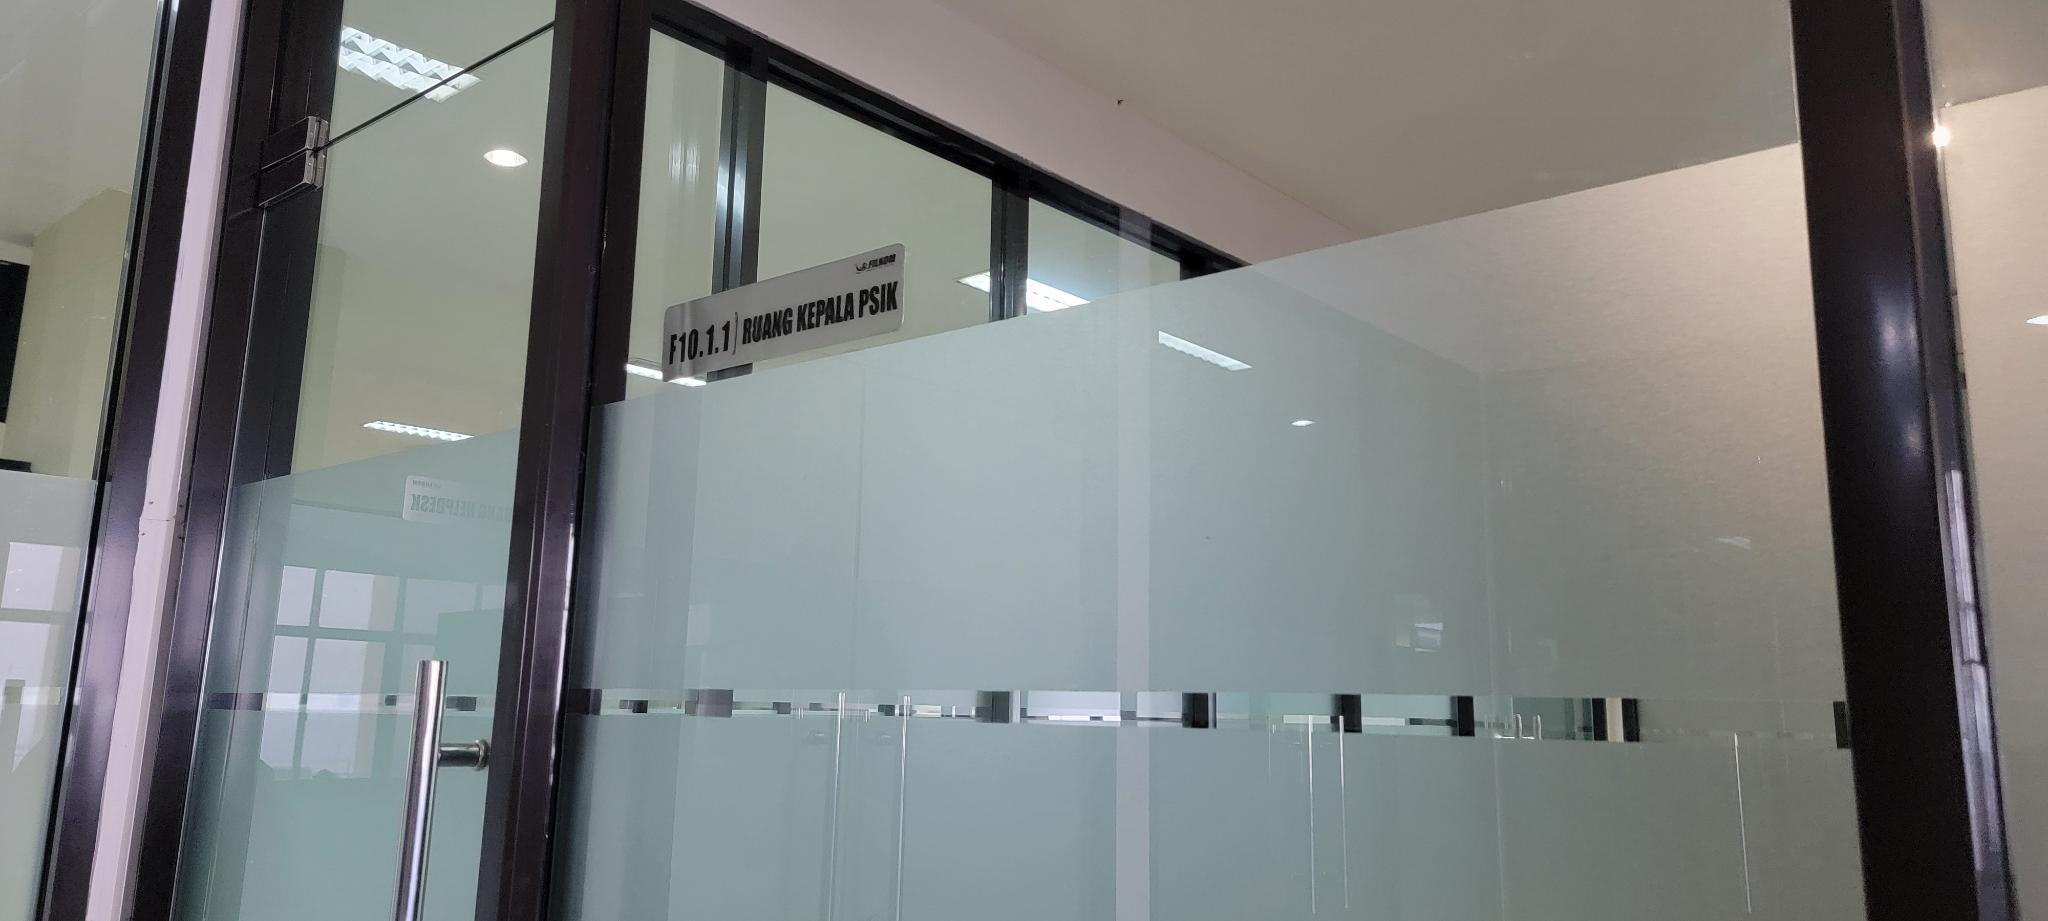plate: (662, 243, 905, 381)
